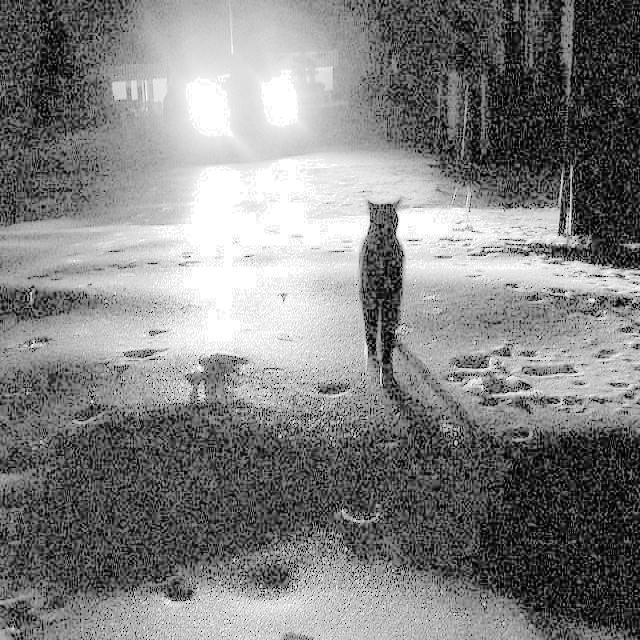Cat: (362, 200, 404, 381)
Motorcycle: (156, 44, 230, 169), (240, 32, 307, 170)
